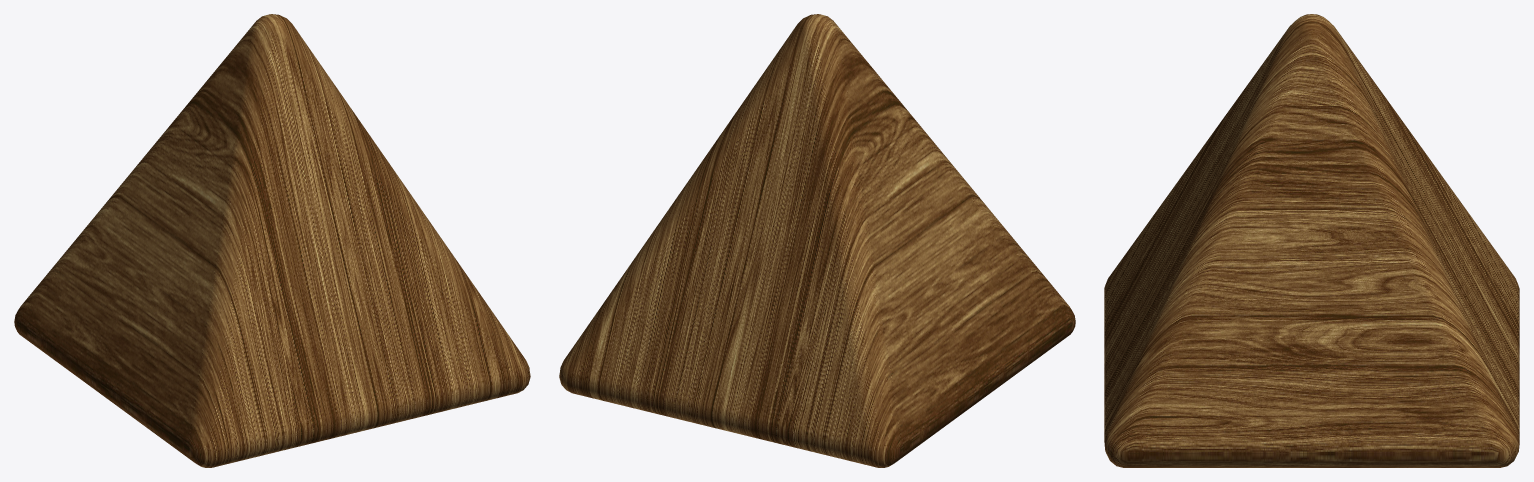
Rendered from pyramidBlock.obj.
3 renders of one model, left to right at view 1: azimuth 30°, elevation 25°; view 2: azimuth 150°, elevation 25°; view 3: azimuth 270°, elevation 25°, orthographic. The views are drawn at different scales.
Visible parts, largest first — view 1: pCube1; view 2: pCube1; view 3: pCube1.
Part boxes in pixels (x1,y1,x2,y2): pCube1: (14, 14, 530, 467); pCube1: (559, 14, 1075, 467); pCube1: (1104, 14, 1519, 467).
Size of the model in its own units: 188 by 184 by 188.
1 material, 1 textured.
